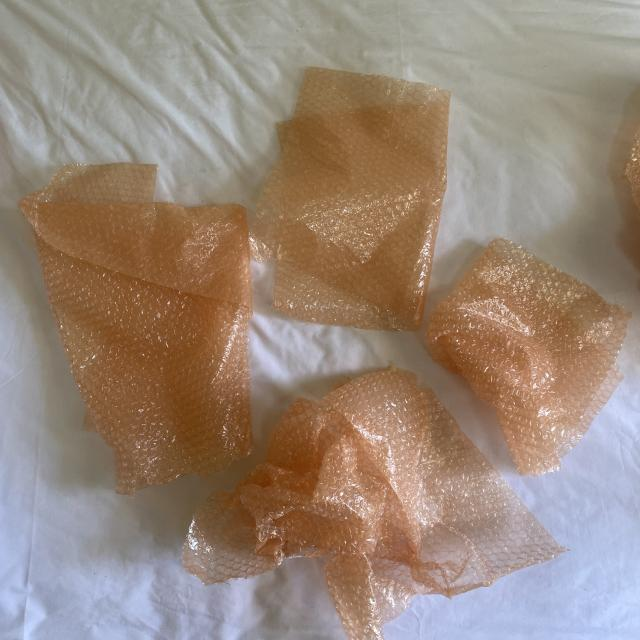Single-layer Plastic: (181, 366, 568, 640), (16, 164, 255, 496), (250, 68, 451, 335), (425, 238, 628, 478)
